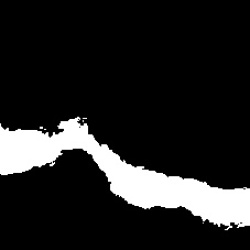crack: (1, 117, 249, 228)
